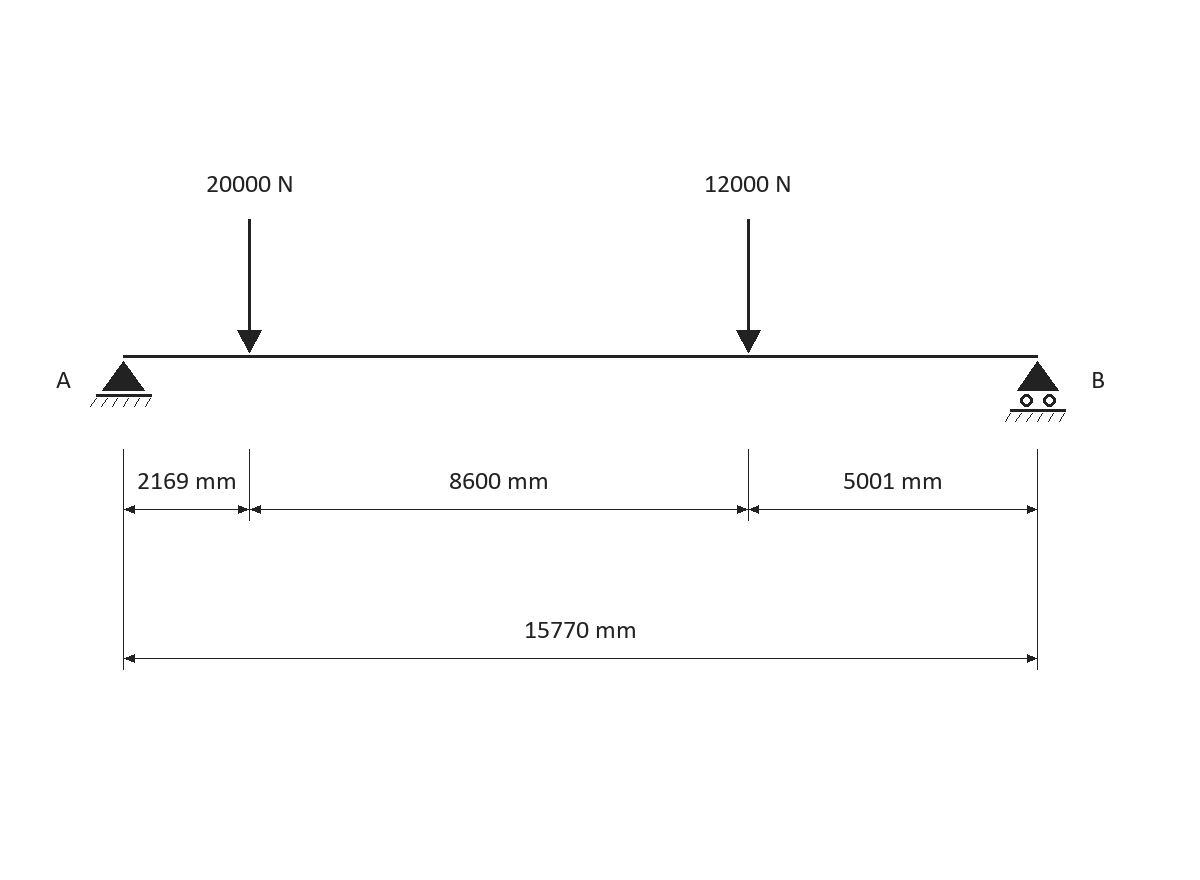pin_support: (90, 361, 152, 407)
point_load: (237, 219, 262, 353), (736, 219, 761, 353)
roller_support: (1005, 361, 1066, 422)
